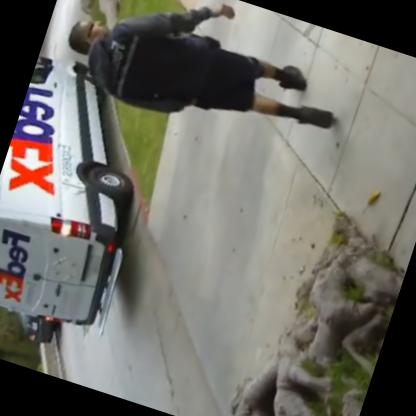Human Body: (46, 0, 365, 176)
